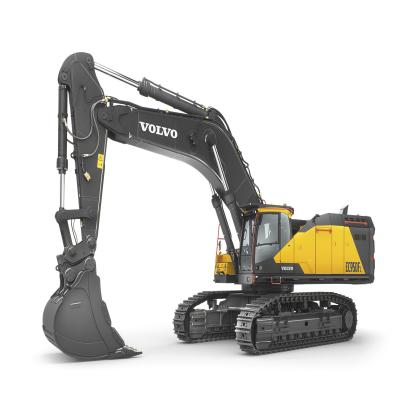excavator: (37, 52, 377, 356)
